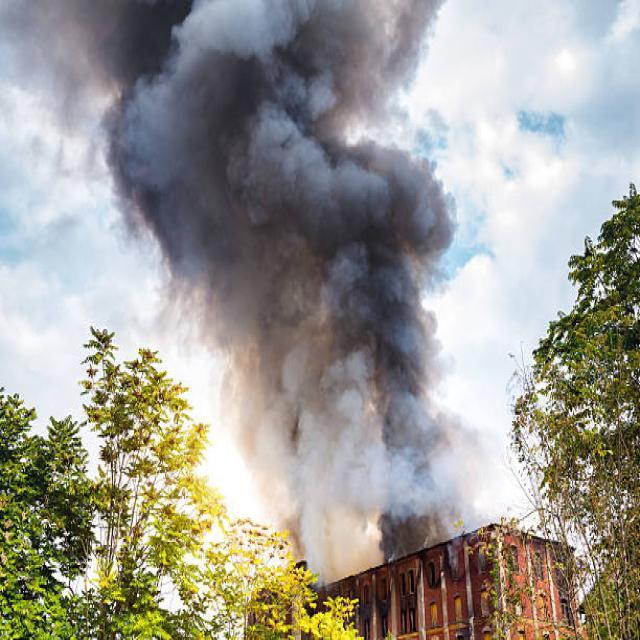Smoke: (112, 156, 431, 359), (56, 0, 418, 153), (236, 362, 452, 522)
